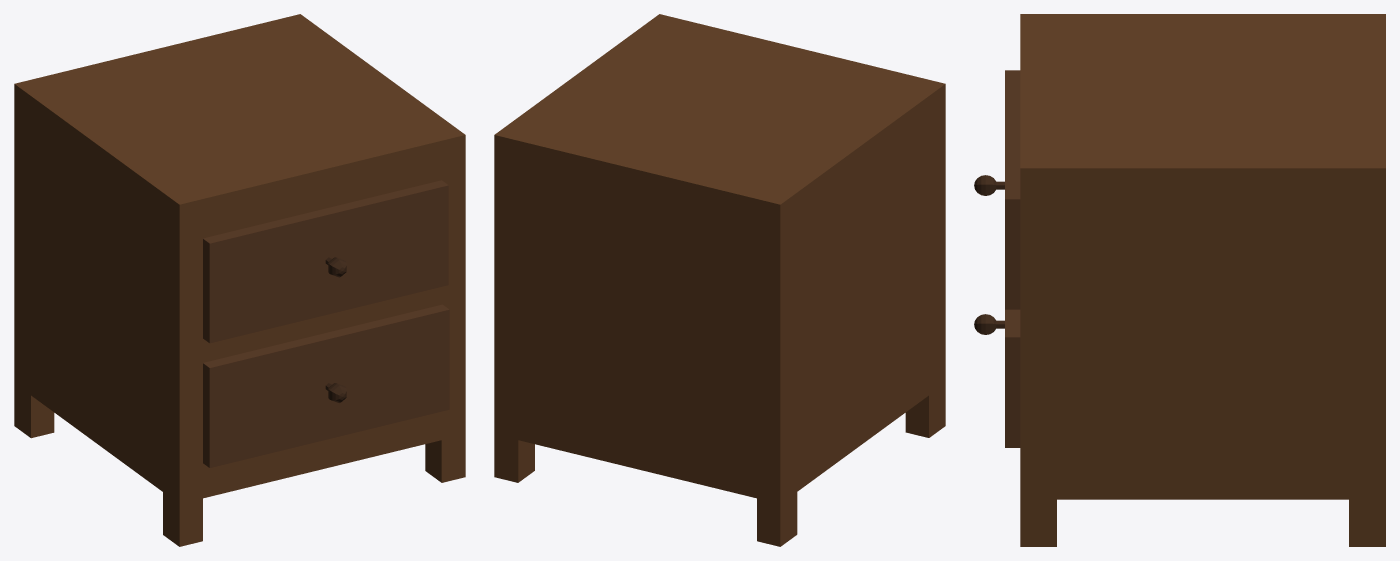
The model's file is MesaDeLuz.fbx.
3 views of the same model, side by side, from view 1: azimuth 30°, elevation 25°; view 2: azimuth 150°, elevation 25°; view 3: azimuth 270°, elevation 25° (orthographic). The views are drawn at different scales.
Visible parts, largest first — view 1: Mesa de luz; view 2: Mesa de luz; view 3: Mesa de luz.
Part boxes in pixels (box(x1,y1,x2,y2)): Mesa de luz: box(14, 14, 465, 546); Mesa de luz: box(494, 14, 945, 546); Mesa de luz: box(974, 14, 1385, 546).
Size of the model in its own units: 200 by 229 by 225.
